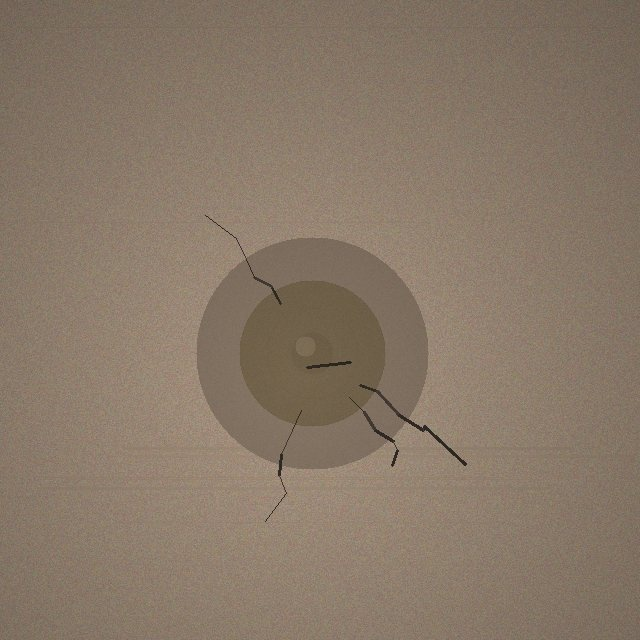crack: (196, 237, 428, 469)
